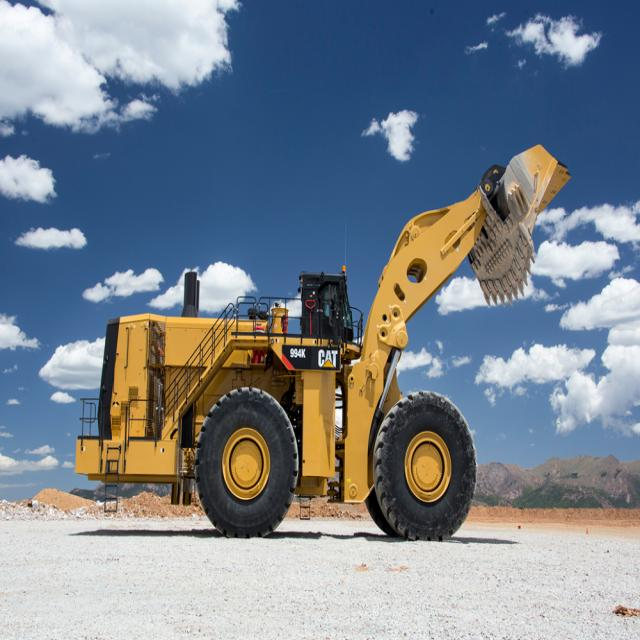buldozerpayloadergrader: (67, 138, 575, 545)
